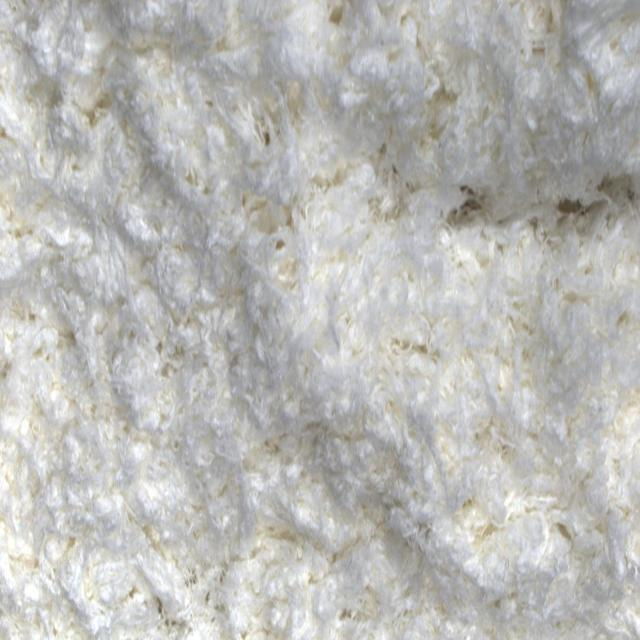dust: (554, 183, 605, 233)
